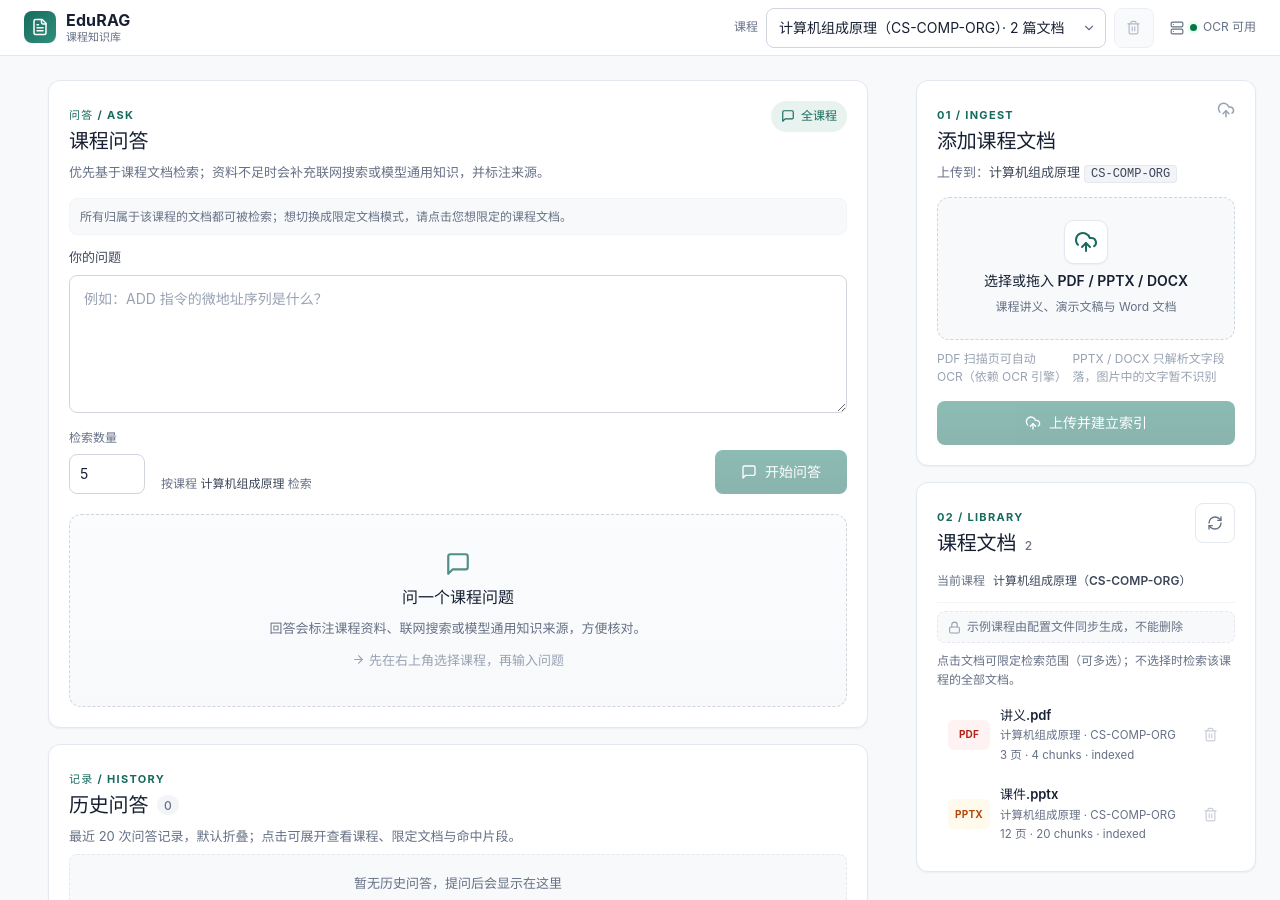
Test: EduRAG 前端工作流 › 配置同步的课程不可删除：删除按钮禁用并说明原因
This screenshot has width=1280, height=900.
Expected: the text "讲义.pdf" is shown, [1000, 707, 1051, 723]
Expected: the button named "删除课程" is disabled, [1114, 8, 1154, 48]
Select "操作系统（CS-OS）· 0 篇文档" in the dropdown labelled "课程": (936, 28) [766, 8, 1106, 48]
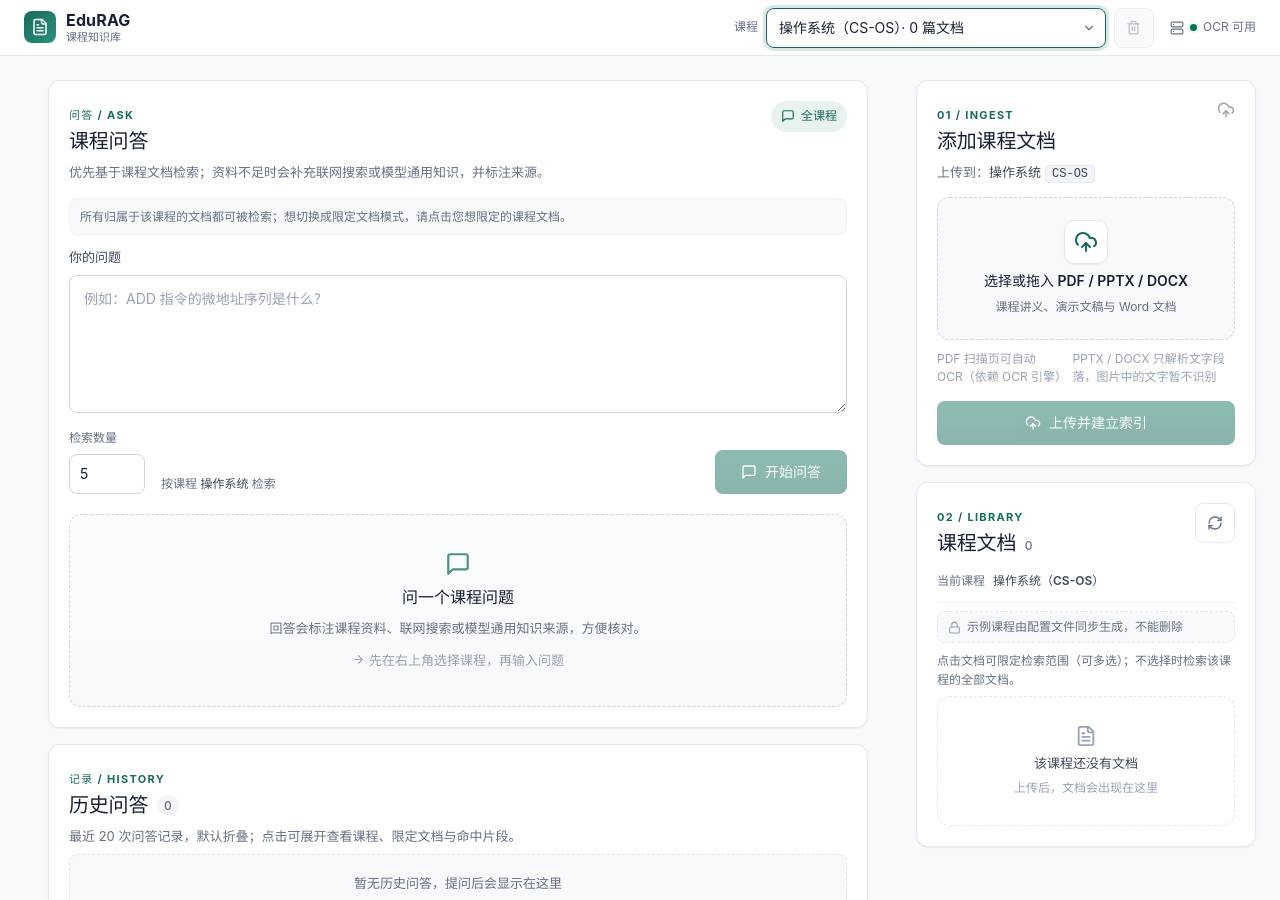
Expected: the button named "删除课程" is disabled, [1114, 8, 1154, 48]
Now the text "该课程还没有文档" is shown, box [1034, 753, 1138, 773]
